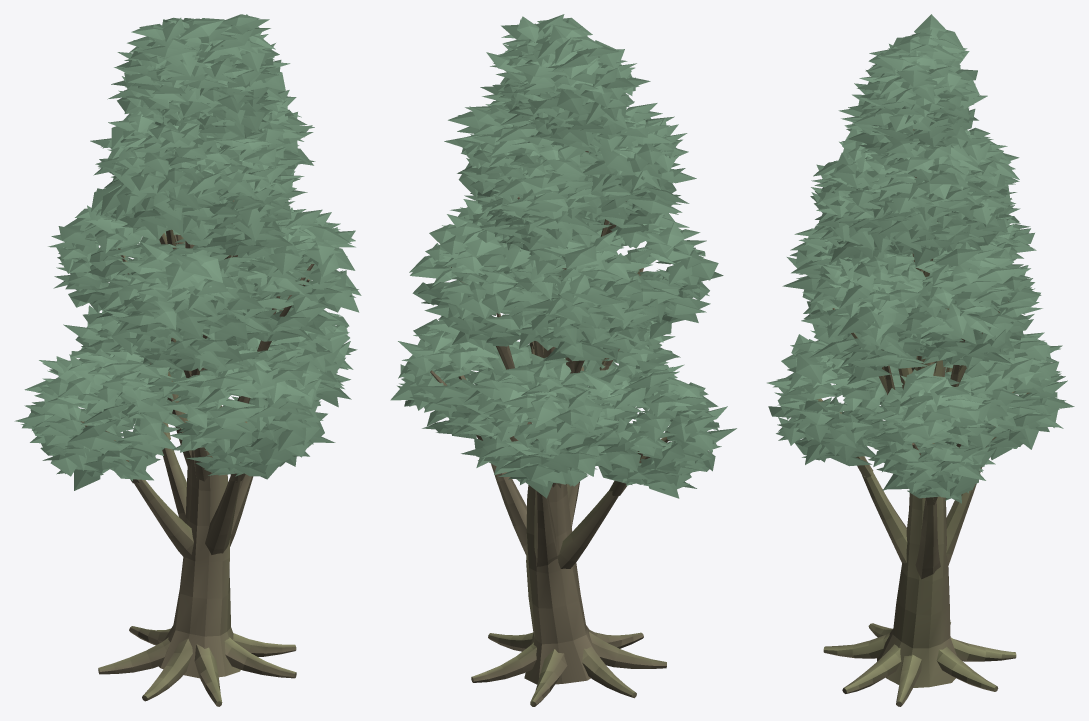
The model's file is 02_Silver_Spire.glb.
3 renders of one model, left to right at view 1: azimuth 30°, elevation 25°; view 2: azimuth 150°, elevation 25°; view 3: azimuth 270°, elevation 25°, orthographic. The views are drawn at different scales.
Visible parts, largest first — view 1: Canopy.001, Trunk.001; view 2: Canopy.001, Trunk.001; view 3: Canopy.001, Trunk.001.
Boxes of the visible parts, x1,y1,x2,y2 form: Canopy.001: (14,14,361,490); Trunk.001: (80,200,314,706); Canopy.001: (390,14,736,498); Trunk.001: (430,151,669,706); Canopy.001: (767,14,1074,503); Trunk.001: (816,129,1029,706).
Size of the model in its own units: 4.67 by 8.98 by 3.99.
